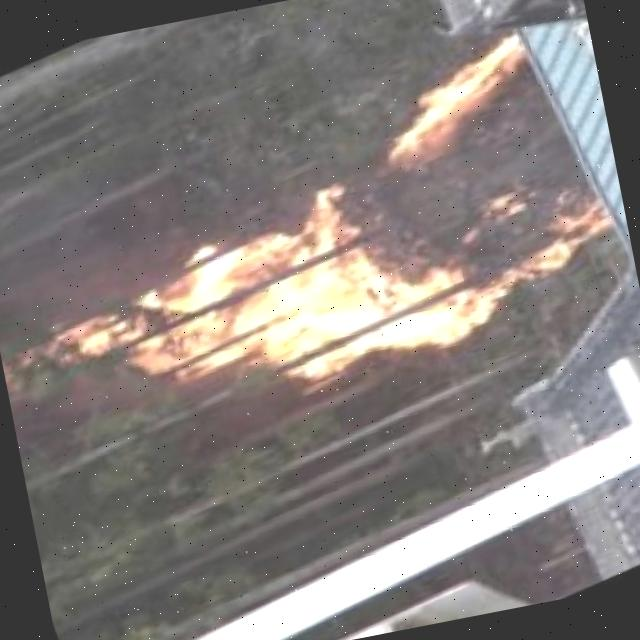fire: (0, 0, 640, 497)
